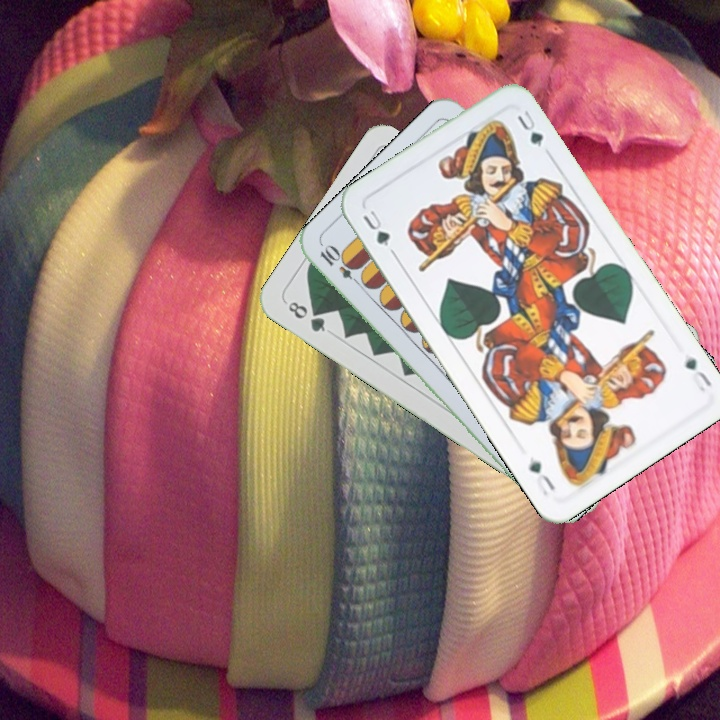E10: (316, 241, 366, 290)
G8: (283, 297, 328, 335)
GU: (358, 206, 393, 249), (681, 352, 714, 395)
